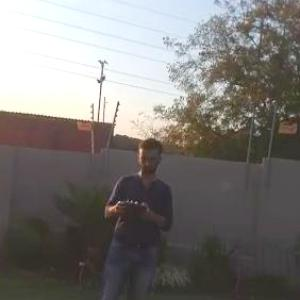follow: (95, 131, 188, 299)
